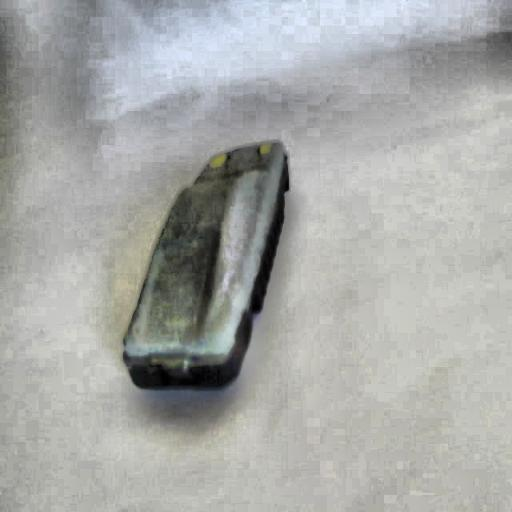normal_car: (117, 139, 293, 394)
